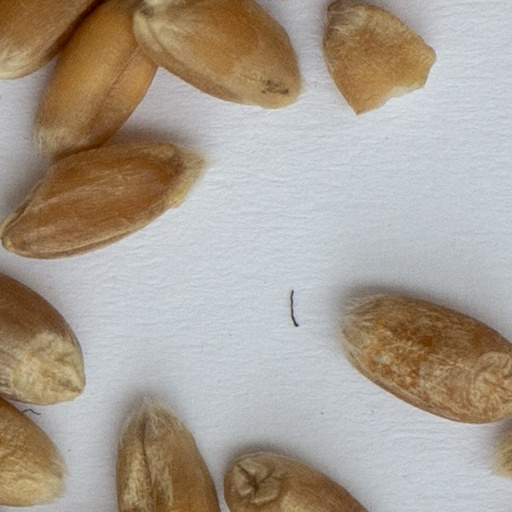Wheat-grain-damaged-poly: (320, 2, 436, 118)
Wheat-grain-poly: (0, 135, 202, 257), (335, 290, 511, 423), (37, 2, 152, 162), (133, 0, 298, 108), (117, 396, 218, 511), (0, 276, 84, 403), (226, 451, 363, 511), (0, 0, 86, 78), (476, 423, 511, 484)
